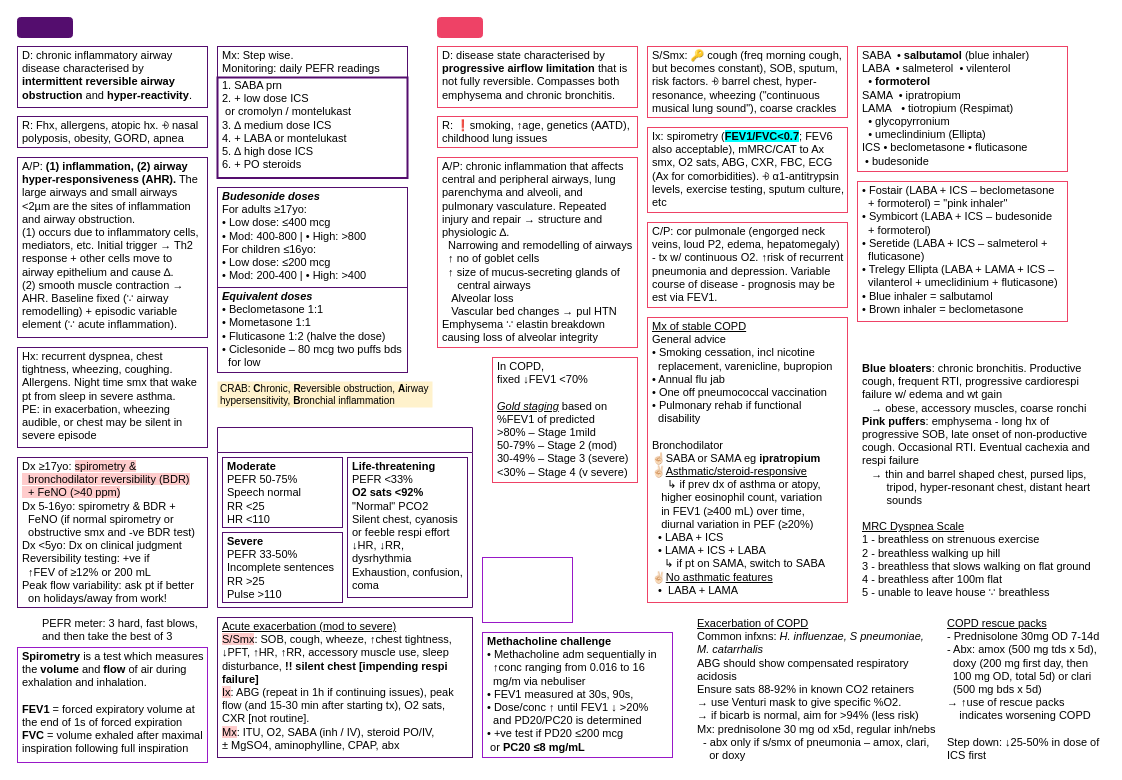
Image size: 1122x780. Some labels were removed from this diagram. The shapes that lost their labels are listed below. From the top down, each one's box as (x1, y1, x2, y2) in pixels, then its label:
(16, 16, 72, 38): Asthma
(436, 16, 482, 38): COPD
(216, 426, 472, 608): BTS classification of acute asthma
(482, 556, 572, 622): FEV1 – ↓↓↓ FVC – normal FEV1/FVC <70% ** REVERSIBLE
